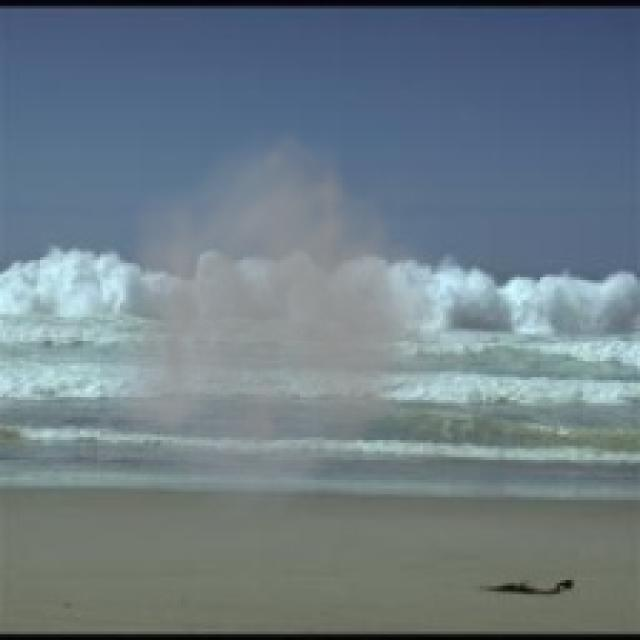Smoke: (100, 115, 480, 534)
